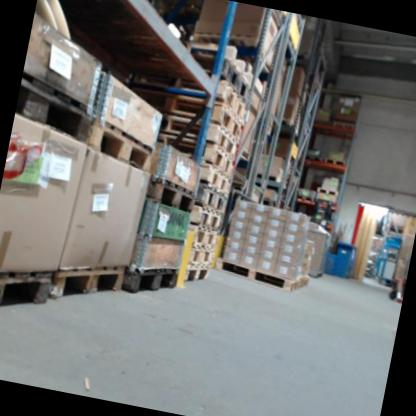pallet: (13, 68, 101, 142), (49, 248, 130, 312), (142, 91, 246, 139), (83, 112, 161, 175), (213, 252, 312, 295), (0, 256, 57, 325), (149, 133, 236, 176), (160, 116, 241, 159), (123, 256, 181, 302), (142, 173, 198, 215), (218, 59, 256, 102), (212, 81, 251, 120), (196, 161, 237, 196), (194, 183, 231, 214), (187, 226, 221, 252), (191, 208, 226, 232), (187, 247, 217, 269), (185, 265, 212, 288), (331, 117, 357, 135), (317, 185, 340, 199), (325, 155, 348, 169), (304, 151, 322, 166), (297, 192, 316, 203)
pallet_truck: (308, 197, 341, 231), (386, 269, 407, 307)
stillage: (291, 223, 335, 290)
